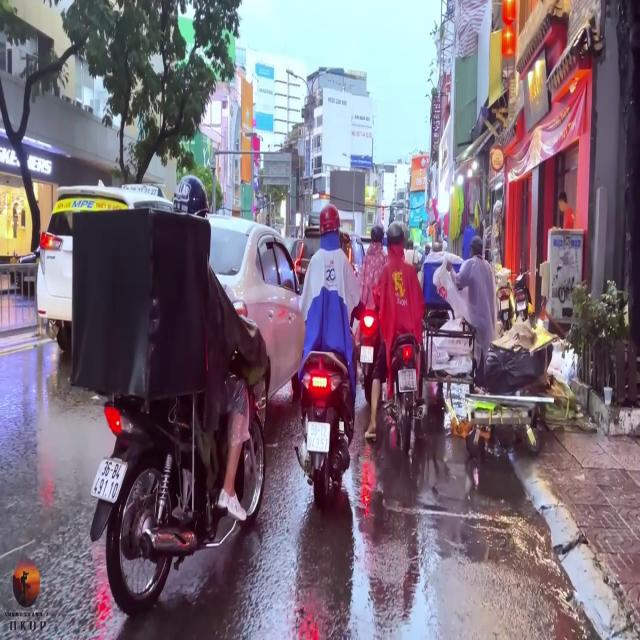bien_trang: (93, 450, 125, 503)
